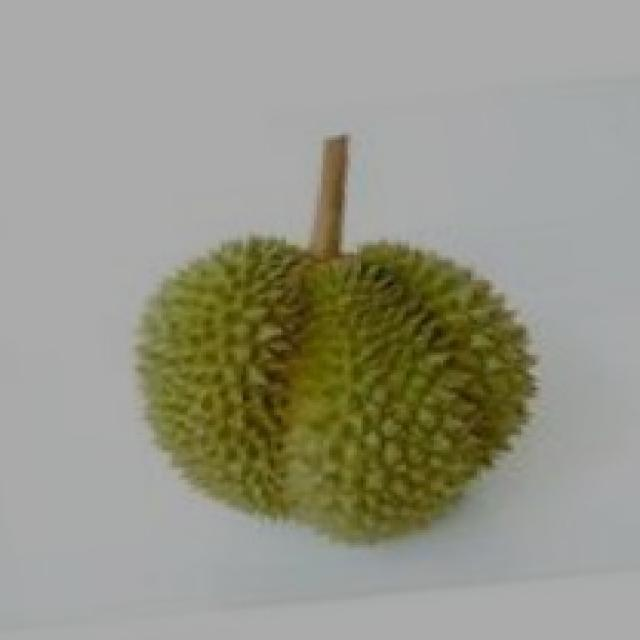fruit: (96, 205, 456, 593)
